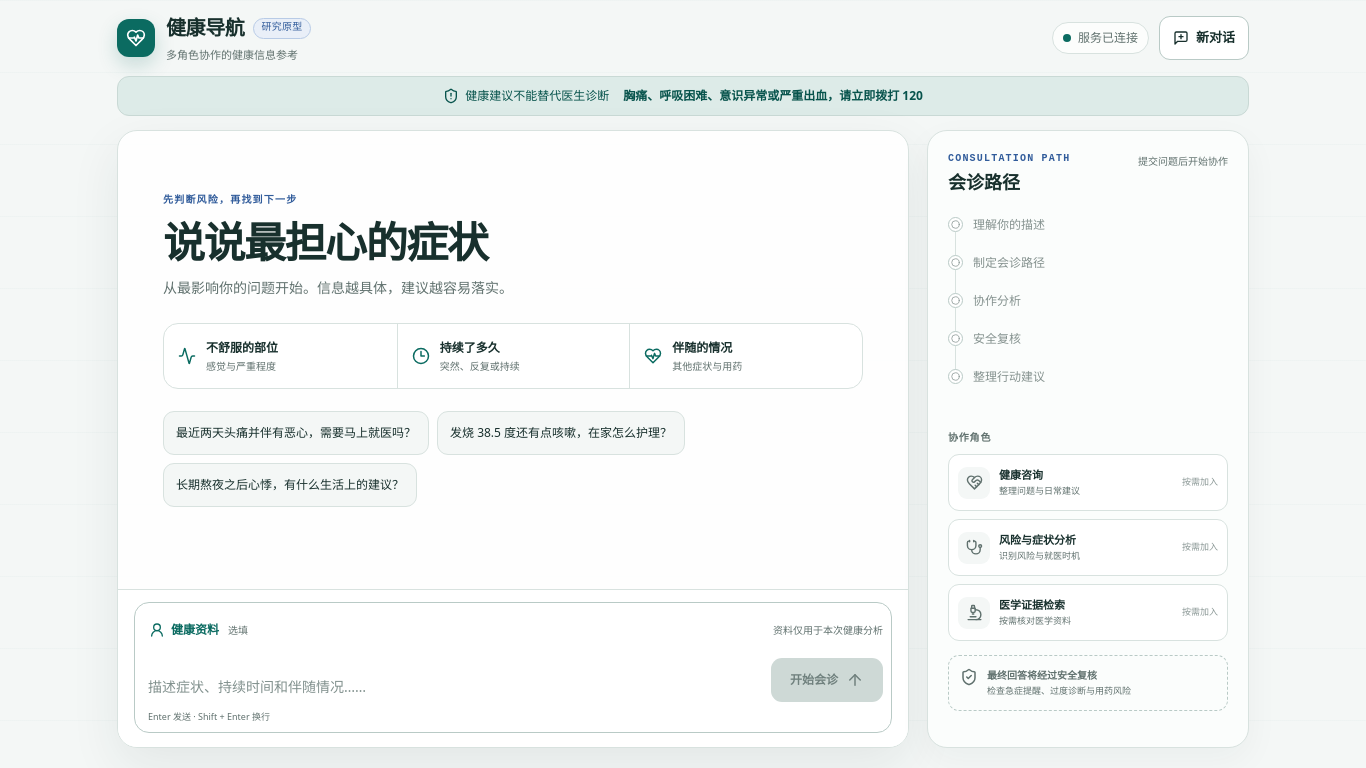
Scenario: health consultation entry › retries a failed consultation without duplicating the user message
The image size is (1366, 768).
Type "持续头痛" into the text box named "描述你的症状或健康问题".
click(454, 687); type("持续头痛")  # box left=148, top=672, right=761, bottom=702
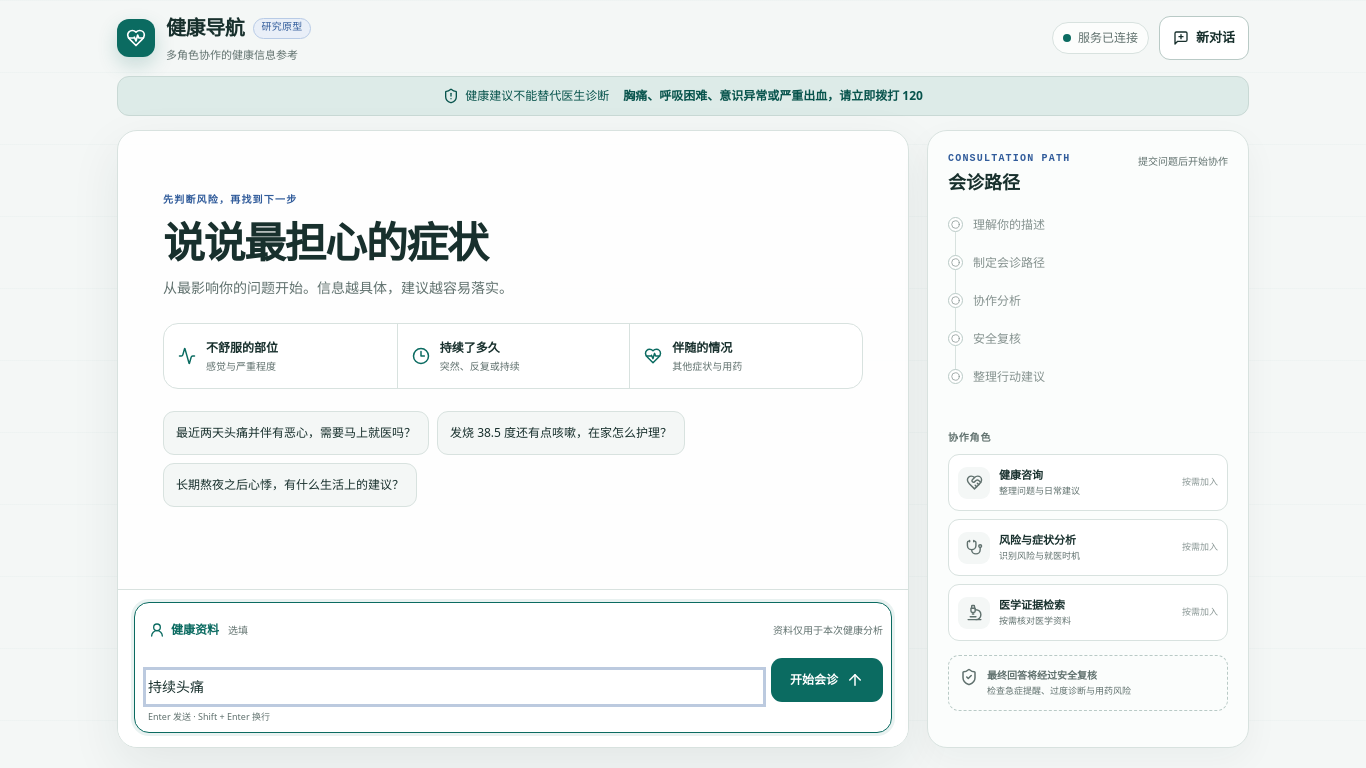
Click the button "开始会诊".
click(827, 680)  # box left=771, top=658, right=883, bottom=702
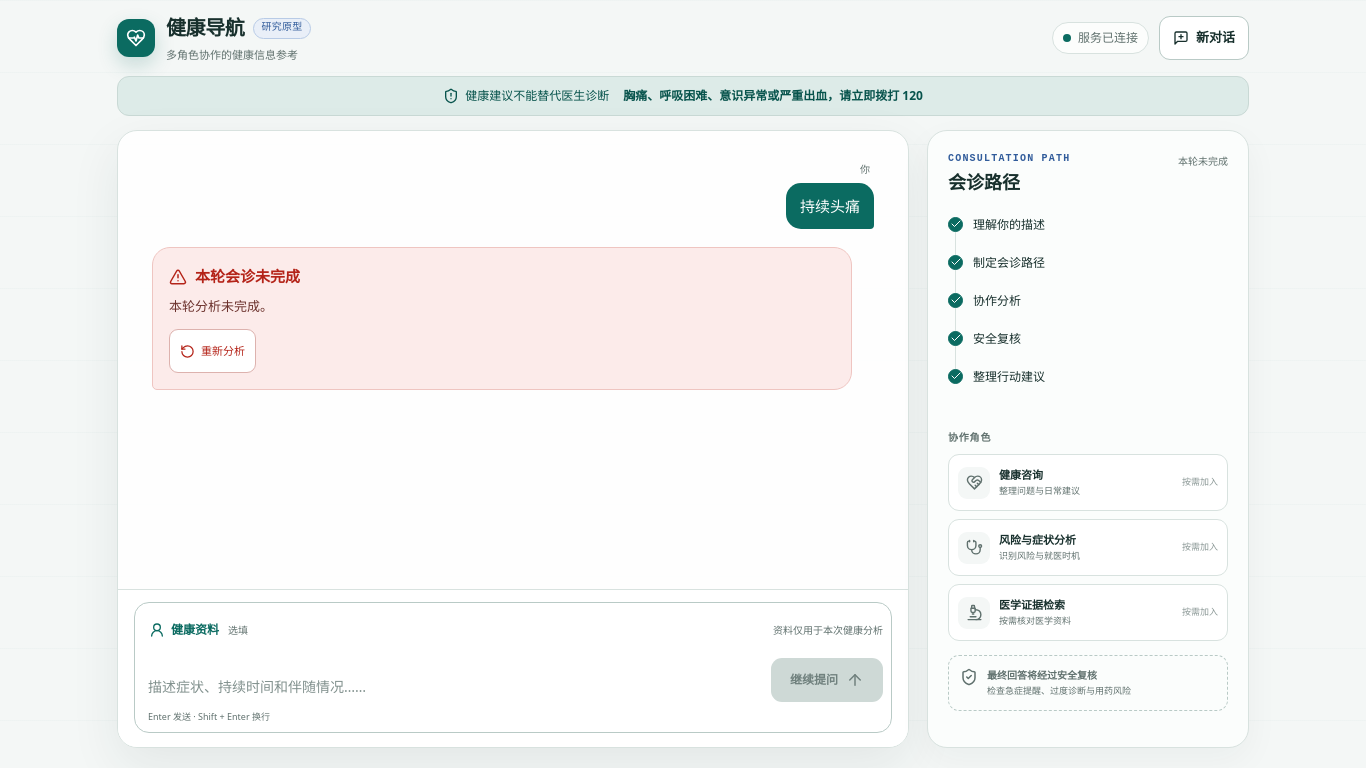
Click the button "重新分析".
click(212, 351)  # box left=169, top=329, right=256, bottom=373
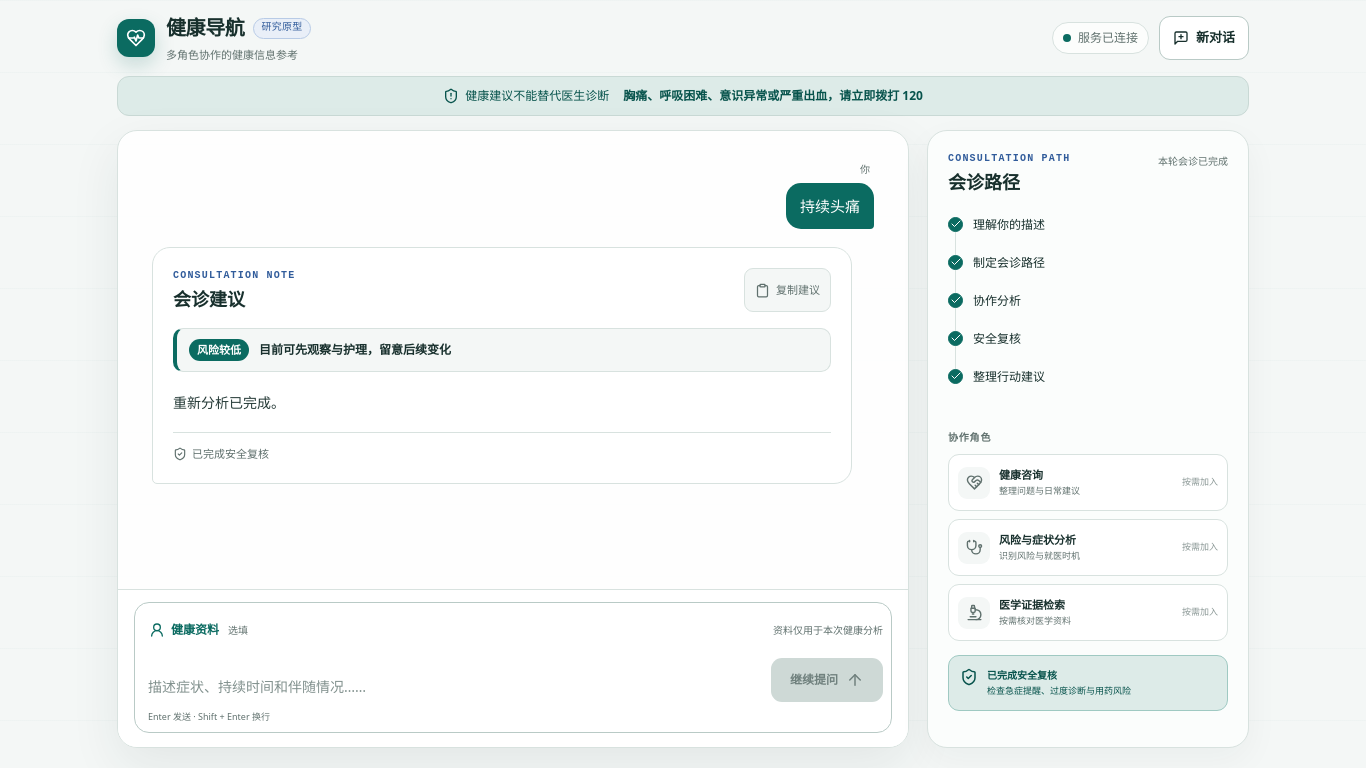
Now the number of elements named "你的问题" is 1, box left=786, top=182, right=874, bottom=229
Now the text "重新分析已完成。" is shown, box left=173, top=393, right=285, bottom=412
